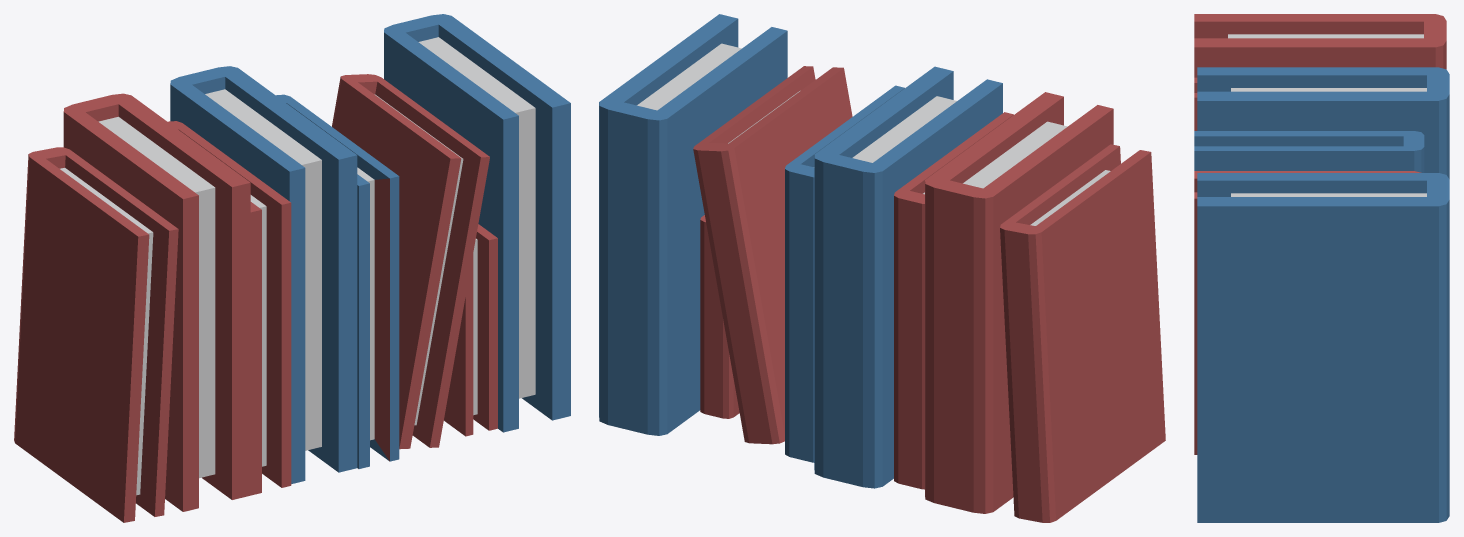
Rendered from O_Clutter_BookStack_Small1.fbx.
3 views of the same model, side by side, from view 1: azimuth 30°, elevation 25°; view 2: azimuth 150°, elevation 25°; view 3: azimuth 270°, elevation 25° (orthographic).
Visible parts, largest first — view 1: pCube56; view 2: pCube56; view 3: pCube56.
Part boxes in pixels (left/top/right/bottom): pCube56: left=14, top=14, right=570, bottom=522; pCube56: left=599, top=14, right=1165, bottom=522; pCube56: left=1194, top=14, right=1449, bottom=522.
Bounding box in the file's own units: 1.07 × 0.7237 × 0.5253.
